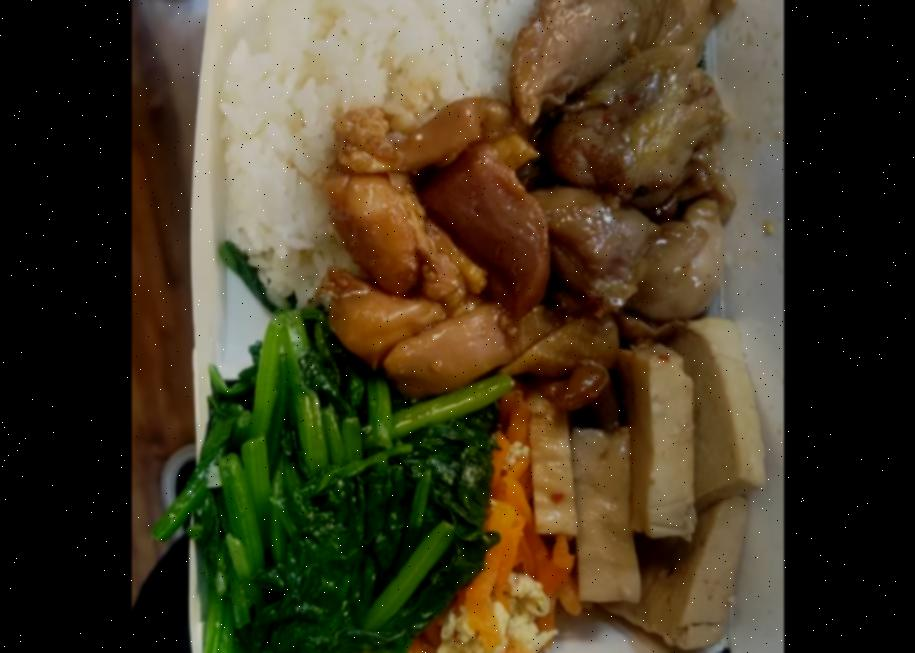big grilled chicken leg: (161, 0, 759, 653)
big herbal chicken leg: (224, 0, 629, 326)
braised fish fillet: (173, 318, 499, 653), (532, 316, 769, 653), (425, 393, 563, 653)
braised pork: (323, 0, 735, 392)
